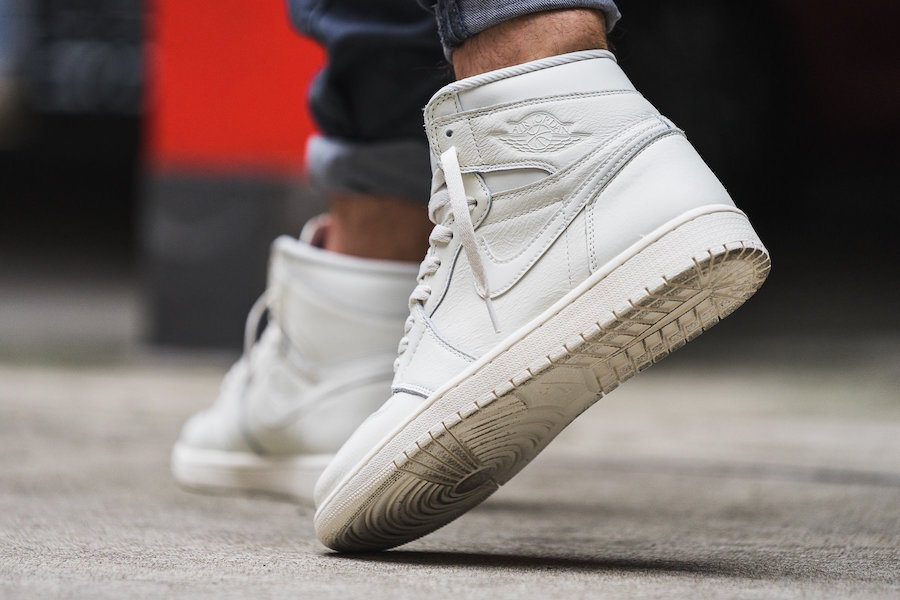Jordan 1: (307, 44, 777, 557)
